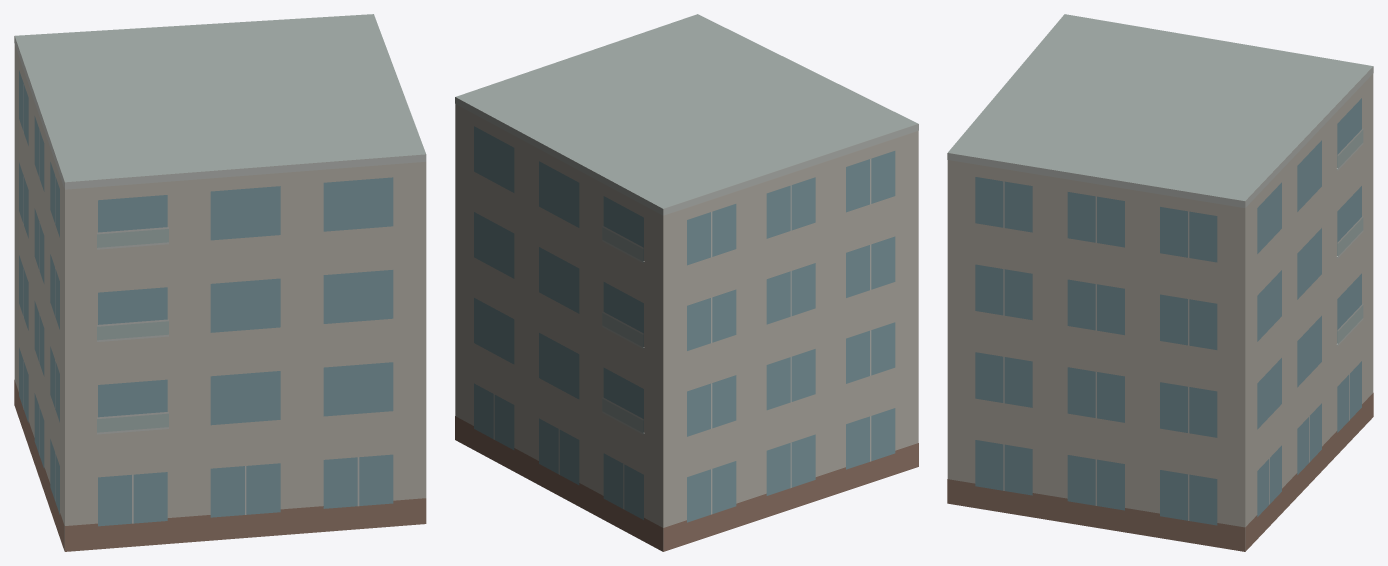
Rendered from survey-upis-32622661.glb.
3 renders of one model, left to right at view 1: azimuth 30°, elevation 25°; view 2: azimuth 150°, elevation 25°; view 3: azimuth 270°, elevation 25°, orthographic. The views are drawn at different scales.
Visible parts, largest first — view 1: survey-upis-32622661.tmp; view 2: survey-upis-32622661.tmp; view 3: survey-upis-32622661.tmp.
Part boxes in pixels (x1,y1,x2,y2): survey-upis-32622661.tmp: [14, 14, 426, 551]; survey-upis-32622661.tmp: [455, 14, 918, 551]; survey-upis-32622661.tmp: [947, 14, 1373, 551].
Bounding box in the file's own units: 13.97 × 12.2 × 13.44.
